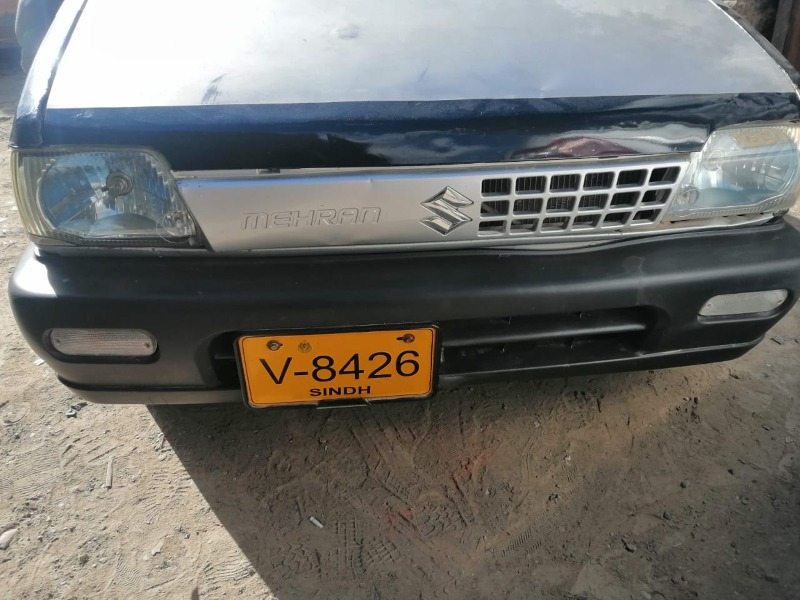License Plate: (231, 323, 443, 413)
